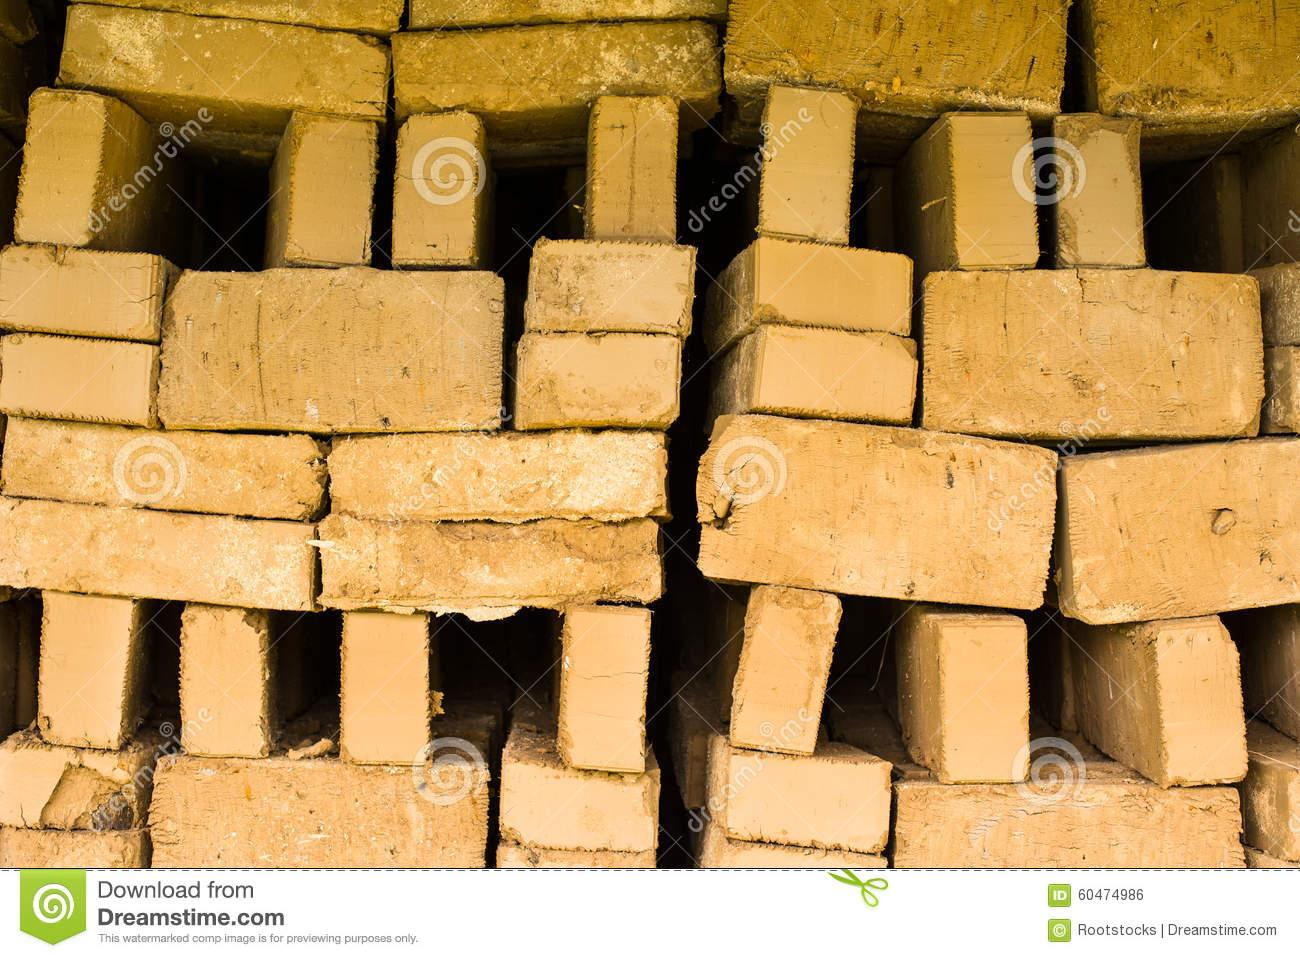brick: (696, 415, 1057, 608), (922, 269, 1264, 438), (156, 267, 504, 428), (1065, 438, 1300, 623), (723, 0, 1067, 113), (150, 755, 486, 866), (58, 6, 390, 117), (0, 496, 315, 609), (319, 517, 661, 621), (0, 415, 322, 521), (389, 20, 721, 115), (328, 430, 668, 521), (893, 783, 1247, 869), (1092, 1, 1300, 114), (730, 587, 841, 756), (524, 237, 697, 334), (727, 754, 892, 853), (759, 84, 858, 244), (515, 334, 681, 429), (1156, 625, 1251, 787), (0, 332, 160, 428), (751, 326, 916, 419), (755, 238, 911, 336), (37, 592, 134, 748), (944, 111, 1039, 269), (16, 87, 110, 244), (561, 603, 649, 770), (1, 244, 158, 337), (939, 624, 1028, 783), (286, 112, 377, 264), (393, 111, 481, 267), (341, 612, 430, 766), (502, 764, 659, 851), (1054, 113, 1143, 265), (180, 604, 267, 756), (593, 94, 677, 241), (0, 746, 143, 831)
